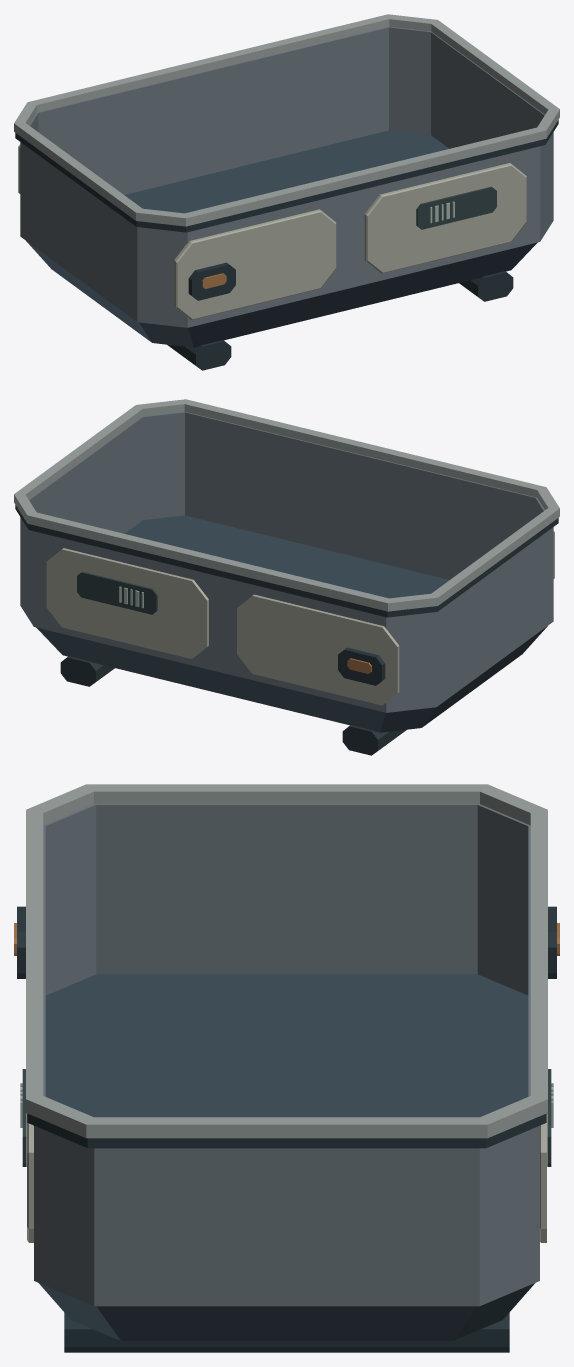
File: MR-01_sorting_skip.glb
3 renders of one model, top to bottom at view 1: azimuth 30°, elevation 25°; view 2: azimuth 150°, elevation 25°; view 3: azimuth 270°, elevation 25°, orthographic. The views are drawn at different scales.
Visible parts, largest first — view 1: MR-01_sorting_skip; view 2: MR-01_sorting_skip; view 3: MR-01_sorting_skip.
Part boxes in pixels (left/top/right/bottom): MR-01_sorting_skip: left=14, top=14, right=559, bottom=370; MR-01_sorting_skip: left=14, top=399, right=559, bottom=755; MR-01_sorting_skip: left=14, top=784, right=559, bottom=1352.
Bounding box in the file's own units: 2.4 × 0.909 × 1.63.
